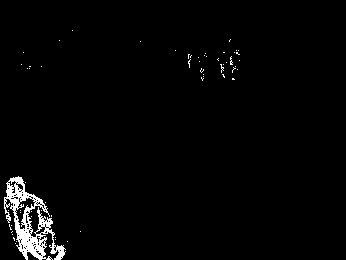person: (4, 175, 64, 260)
